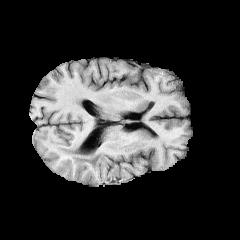glioma: (57, 140, 105, 170)
